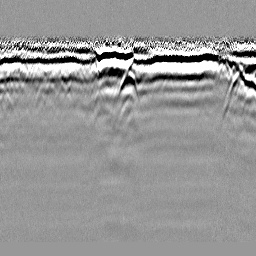cavity: (117, 68, 141, 102)
